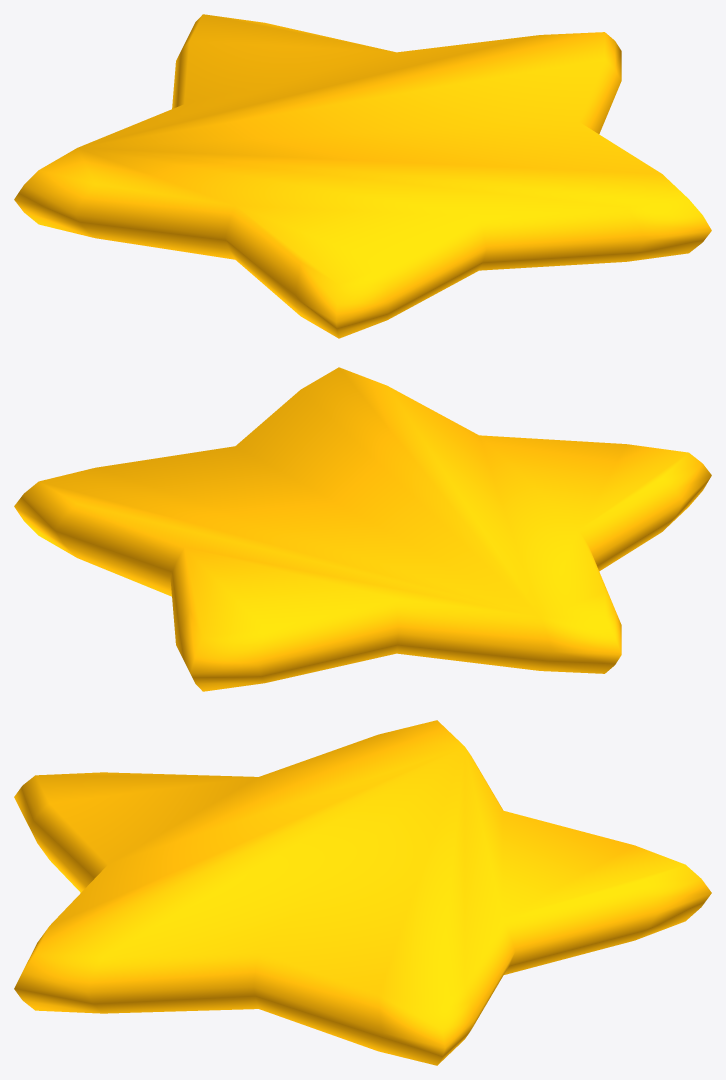
Rendered from Star_1.fbx.
3 views of the same model, one above another, from view 1: azimuth 30°, elevation 25°; view 2: azimuth 150°, elevation 25°; view 3: azimuth 270°, elevation 25° (orthographic). The views are drawn at different scales.
Visible parts, largest first — view 1: Star_1; view 2: Star_1; view 3: Star_1.
Part boxes in pixels (x1,y1,x2,y2): Star_1: [14, 14, 711, 338]; Star_1: [14, 367, 711, 691]; Star_1: [14, 720, 711, 1065].
Size of the model in its own units: 4.99 by 4.75 by 0.4261.
